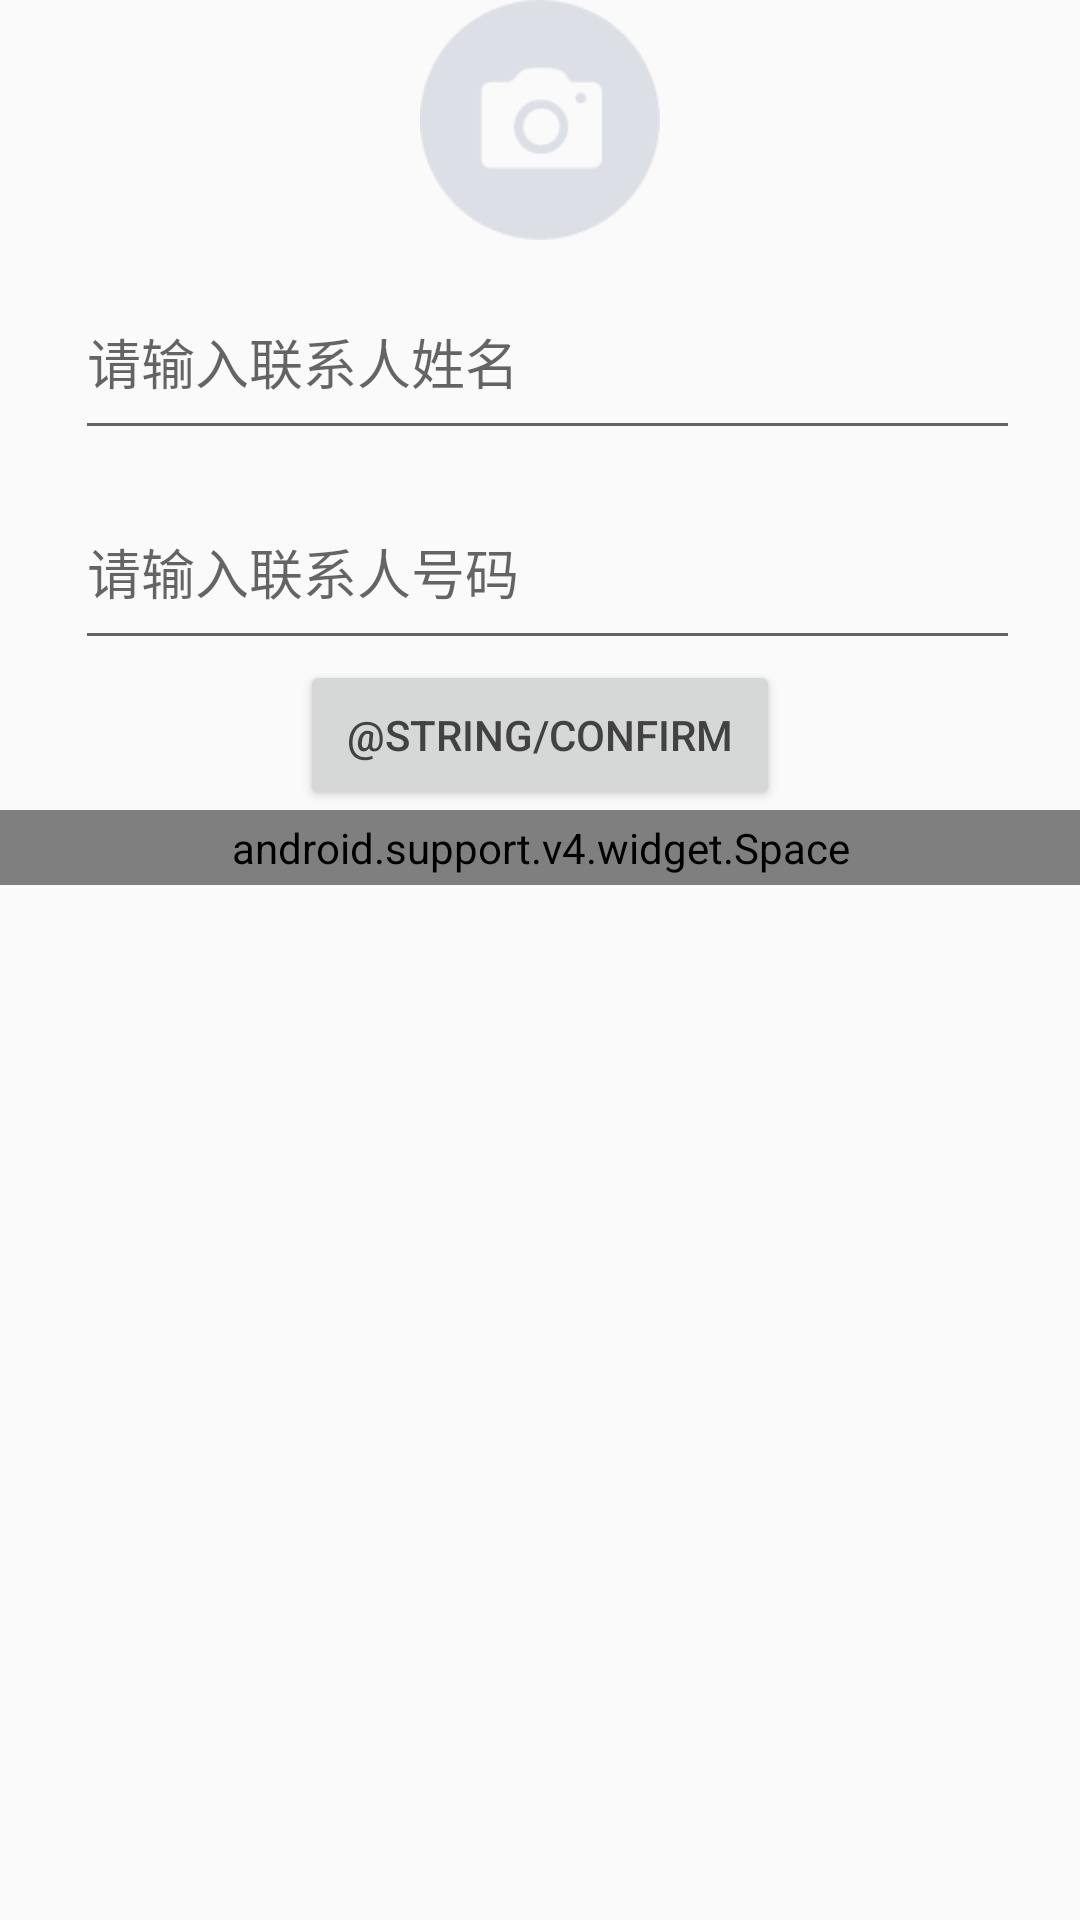

Icons on this 1080w x 1920h Android screen, each with its box as (x1, y1, x2, y2):
add photo: (420, 0, 659, 239)
